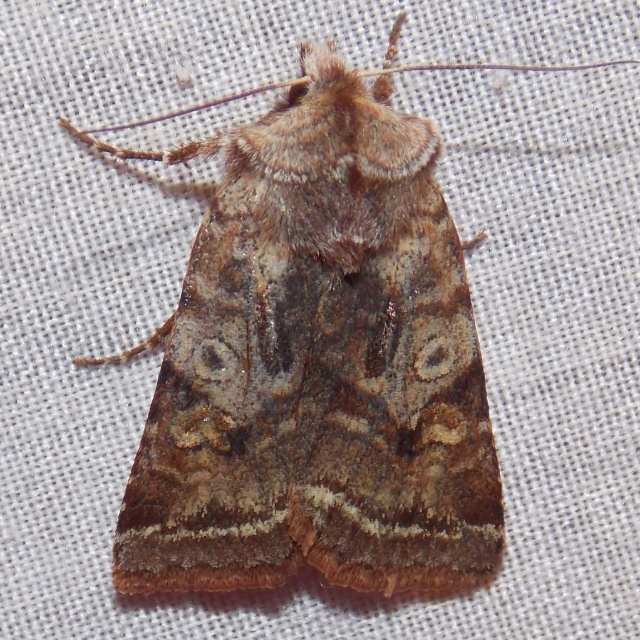Moths and butterflies: (61, 10, 640, 602)
